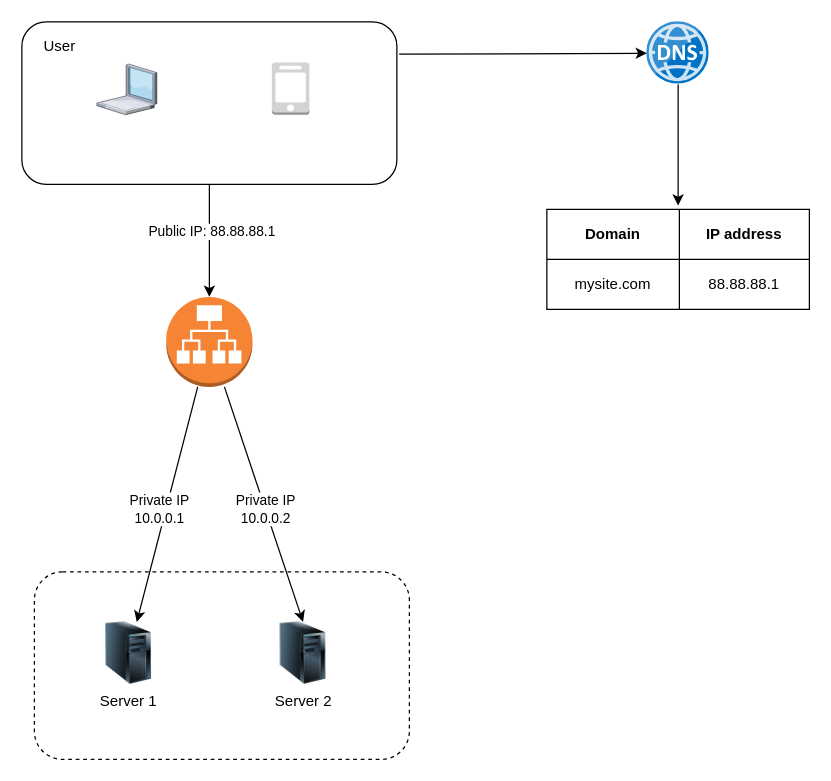
Some shapes in this 831 by 781 pixel diagram are drawn without their labels. Here are the shapes that lost their labels. From the top down, the centre of each, then its label:
At point 126,88: "Web browser".
At point 290,88: "Mobile app".
